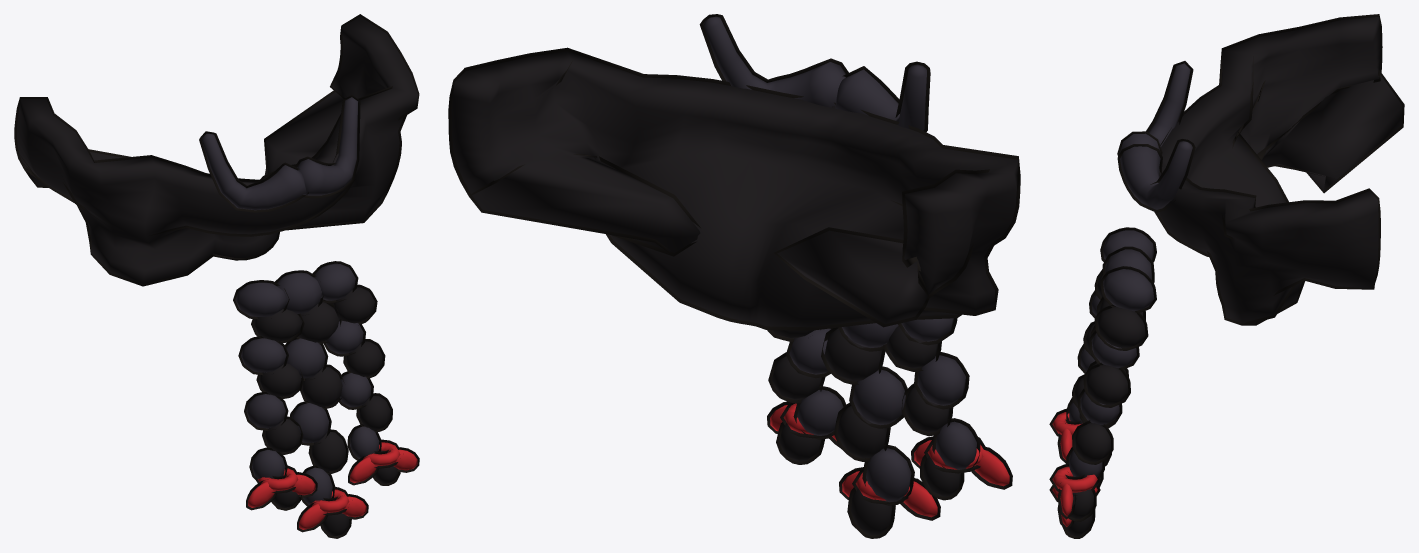
File: beard_black_female_hi.glb
3 renders of one model, left to right at view 1: azimuth 30°, elevation 25°; view 2: azimuth 150°, elevation 25°; view 3: azimuth 270°, elevation 25°, orthographic. The views are drawn at different scales.
Visible parts, largest first — view 1: beard_black_female_hi; view 2: beard_black_female_hi; view 3: beard_black_female_hi.
Boxes of the visible parts, left/top/right/bottom form: beard_black_female_hi: left=14, top=14, right=419, bottom=538; beard_black_female_hi: left=448, top=14, right=1020, bottom=538; beard_black_female_hi: left=1049, top=14, right=1404, bottom=538.
Size of the model in its own units: 0.572 by 0.5859 by 0.4353.
